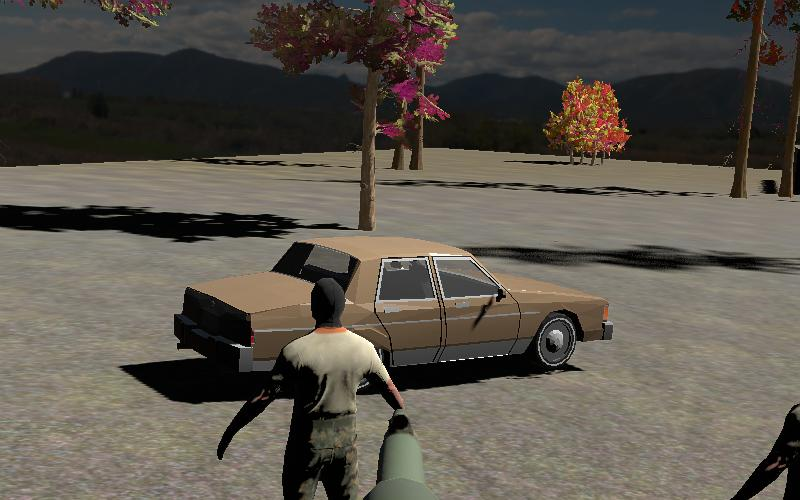Human: (272, 272, 406, 498)
car: (170, 233, 619, 387)
